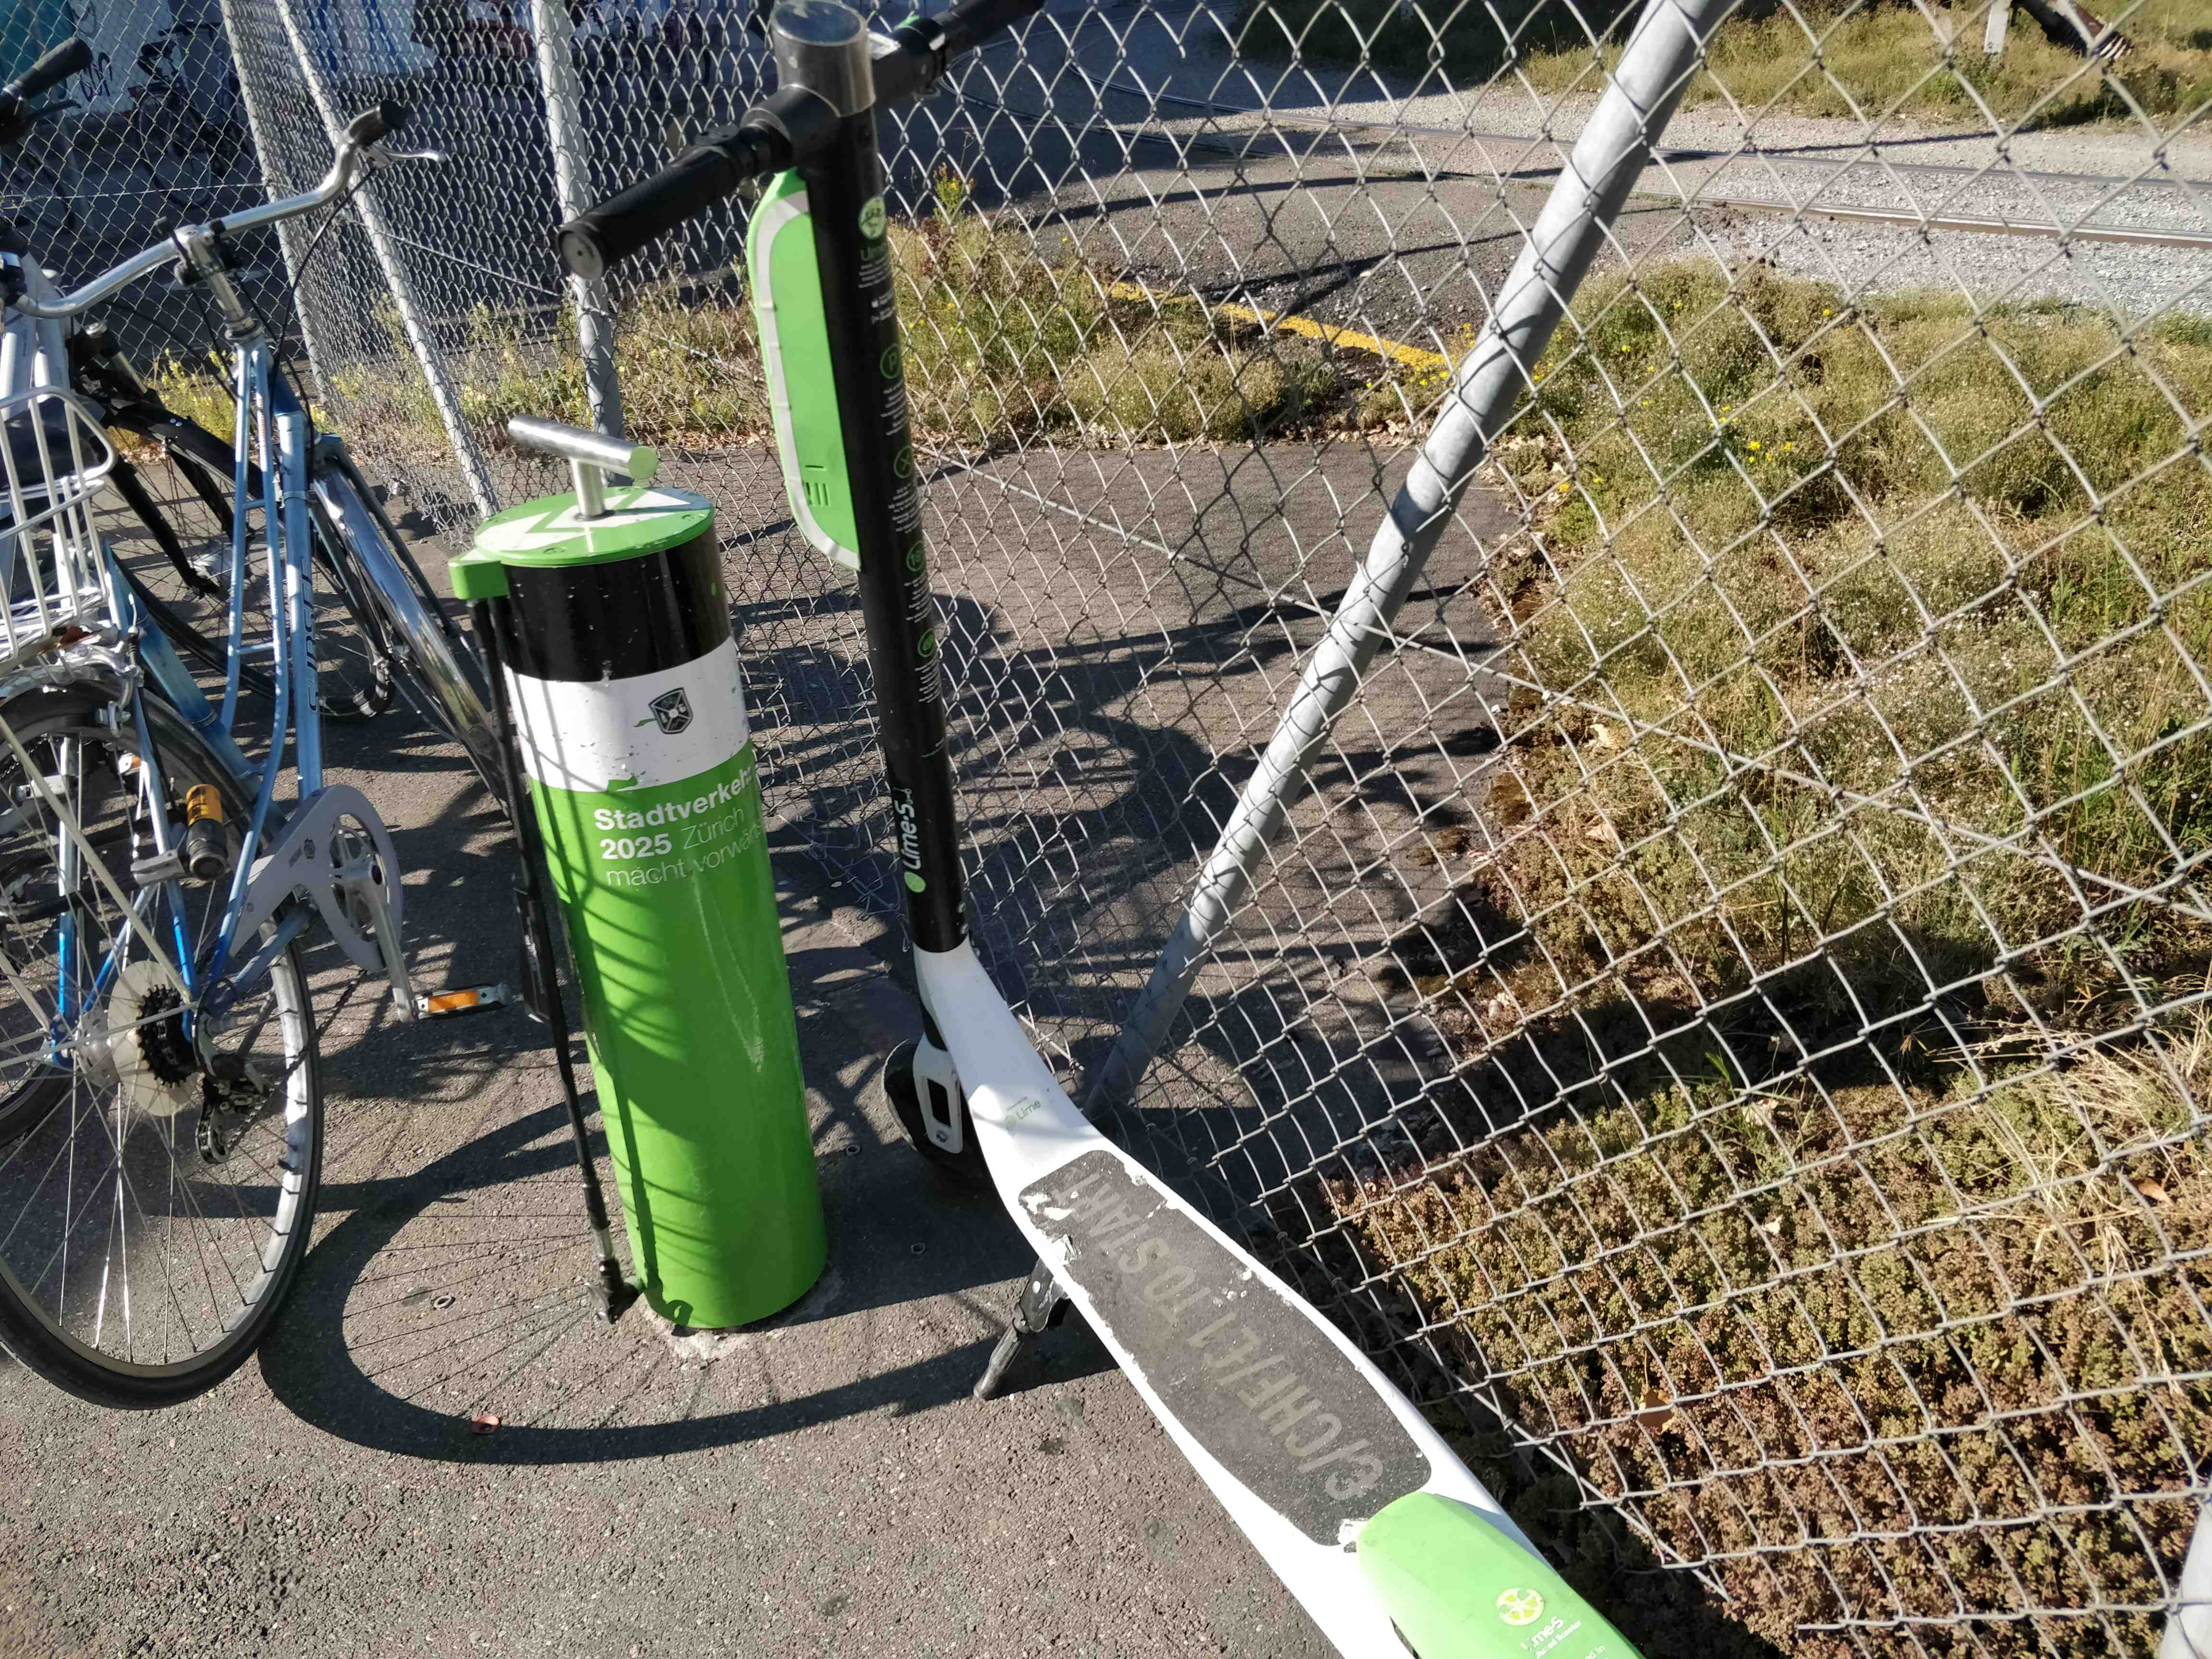scooter: (556, 0, 1679, 1659)
